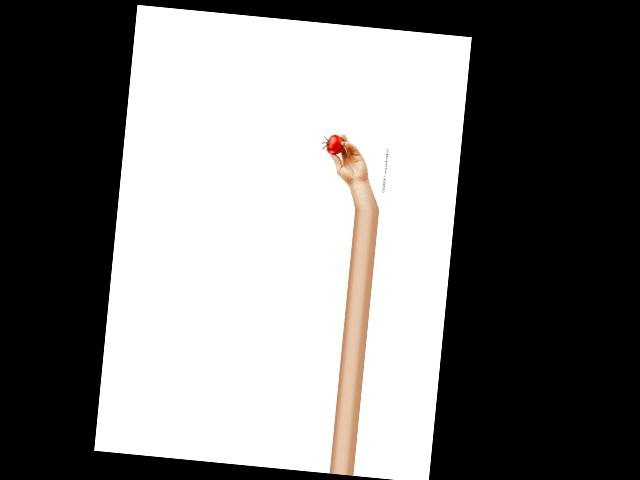tomato: (326, 134, 345, 156)
